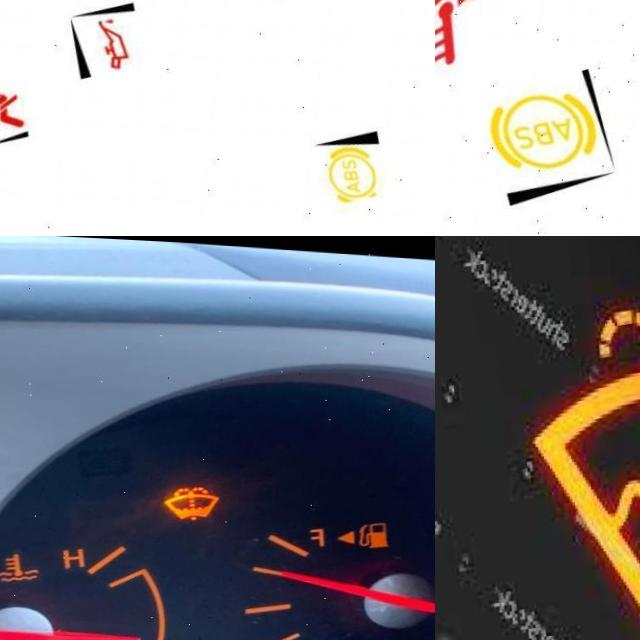Washer Fluid: (524, 296, 640, 624), (167, 481, 225, 518)
